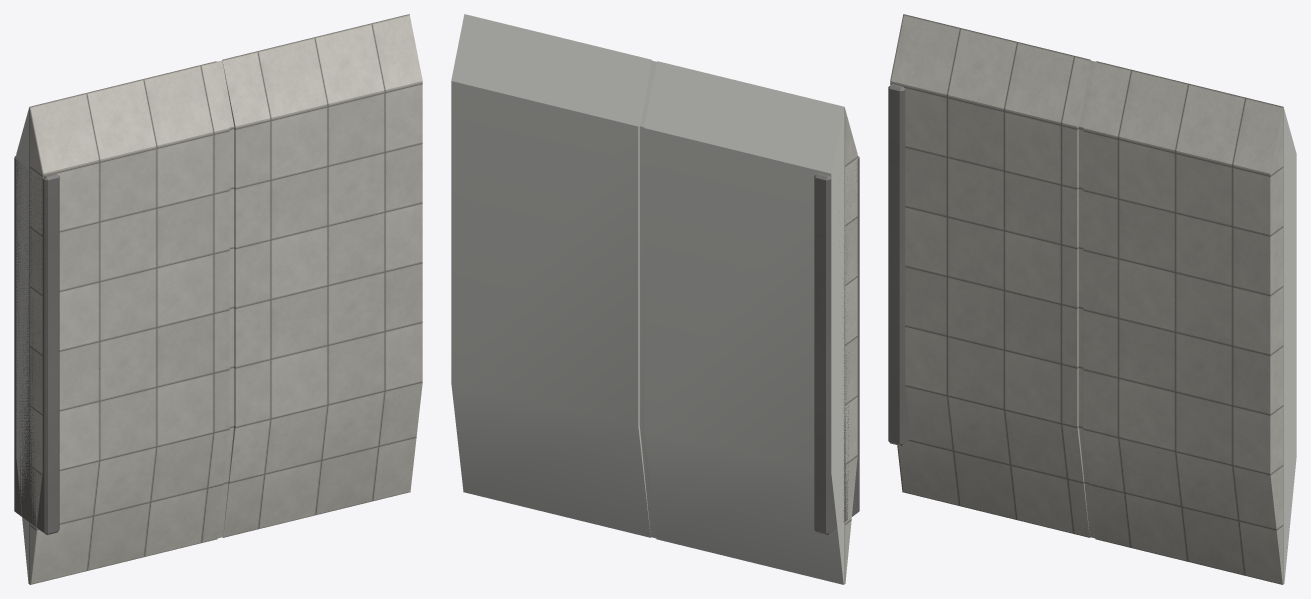
File: ax_aero_20_wgc_wing_connector_s.glb
3 renders of one model, left to right at view 1: azimuth 30°, elevation 25°; view 2: azimuth 150°, elevation 25°; view 3: azimuth 330°, elevation 25°, orthographic.
Parts seen in each view (by area): view 1: wing_top, root_flange, wing_underside; view 2: wing_underside, root_flange, wing_top; view 3: wing_top, root_flange, wing_underside.
Boxes of the visible parts, box(x1,y1,x2,y2) form: wing_top: box(29, 14, 422, 584); root_flange: box(14, 155, 59, 534); wing_underside: box(16, 107, 29, 583); wing_underside: box(451, 14, 844, 584); root_flange: box(814, 155, 859, 534); wing_top: box(844, 107, 857, 583); wing_top: box(890, 14, 1283, 584); root_flange: box(888, 84, 911, 445); wing_underside: box(1283, 108, 1296, 583).
Bounding box in the file's own units: 1 × 1.2 × 0.15.
3 materials, 2 textured.
